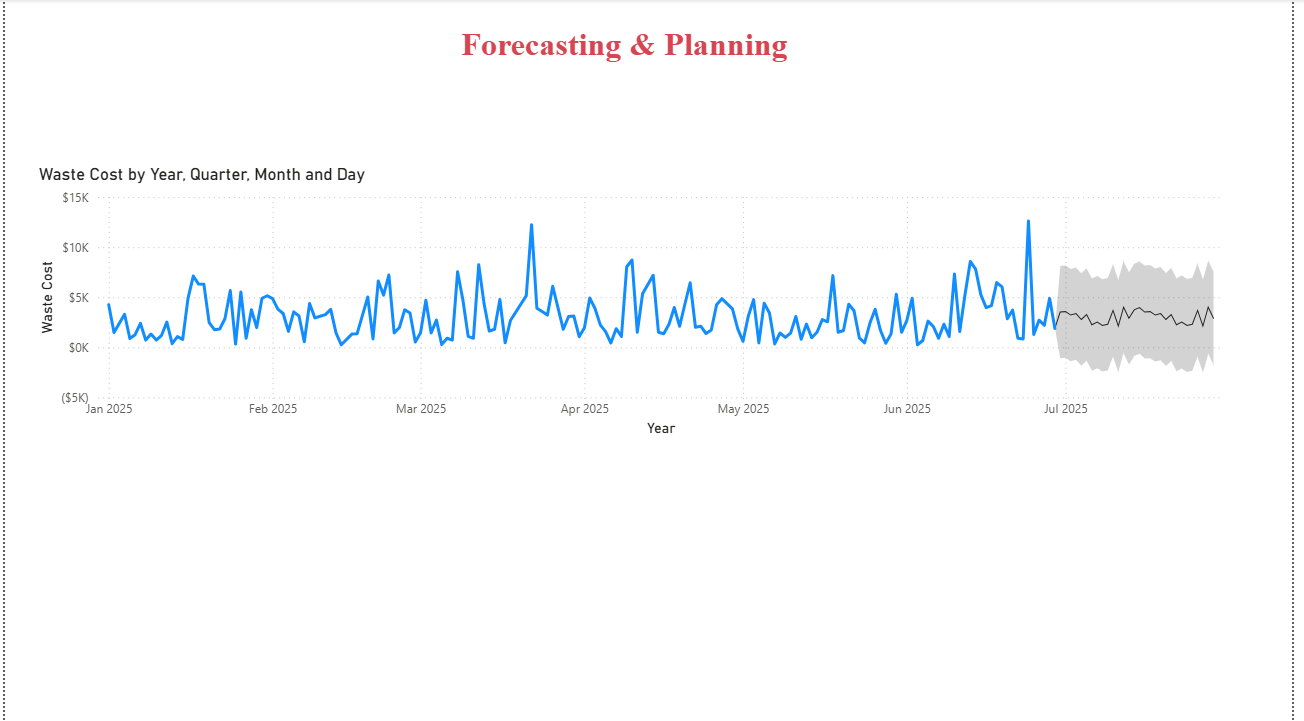

Layout of this report page (visuals, bound fields, positions):
{"tool":"powerbi","page":{"name":"Page 4","canvas":[1280,720],"ordinal":3},"visuals":[{"type":"lineChart","fields":{"Y":["Measure Table.Waste Cost"],"Category":["Calender.Date.Variation.Date Hierarchy.Year","Calender.Date.Variation.Date Hierarchy.Quarter","Calender.Date.Variation.Date Hierarchy.Month","Calender.Date.Variation.Date Hierarchy.Day"]},"box":[29.2,164.4,1201.2,276.2],"z":0},{"type":"textbox","box":[449.4,21.4,363.8,52.5],"z":1}]}

Visuals, with their boxes in screenshot pixels (x1, y1, x2, y2), scaled from the page's 1280x720 canvas onto the 1304x721 screenshot:
lineChart - Measure Table.Waste Cost x Calender.Date.Variation.Date Hierarchy.Year: {"left": 30, "top": 165, "right": 1253, "bottom": 441}
textbox: {"left": 458, "top": 21, "right": 828, "bottom": 74}
